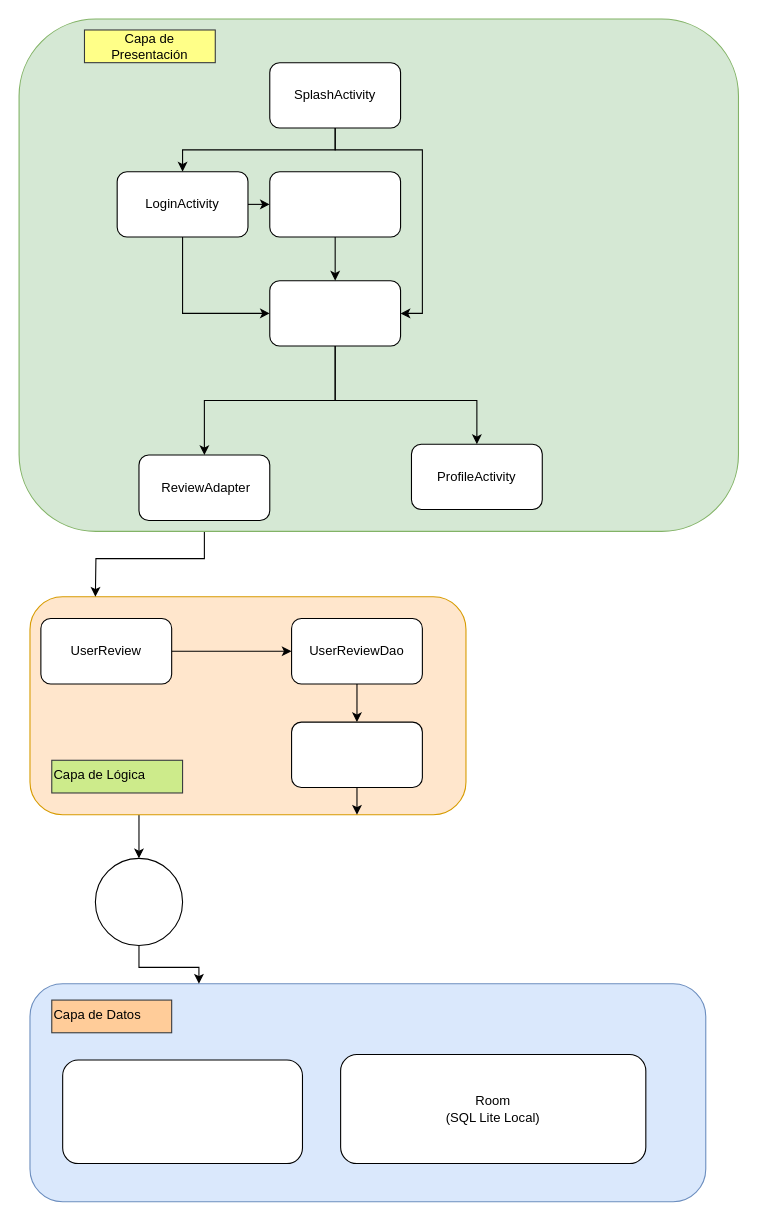
This 758x1221 diagram has some shape labels left out. Here are the shapes that lost their labels. From the top down, the box of each, then its label:
(269, 171, 401, 237): RegisterActivity
(269, 280, 401, 346): MainActivity
(290, 721, 422, 788): AppDatabase
(94, 857, 183, 946): Couroutines Kotlin
(62, 1059, 302, 1164): FireBase Authentication
